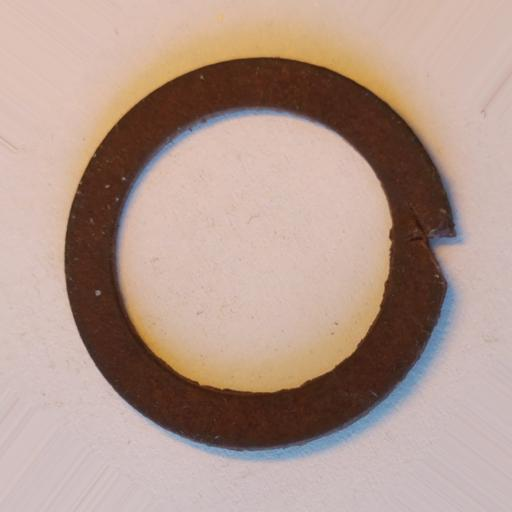defect: (403, 204, 457, 284)
